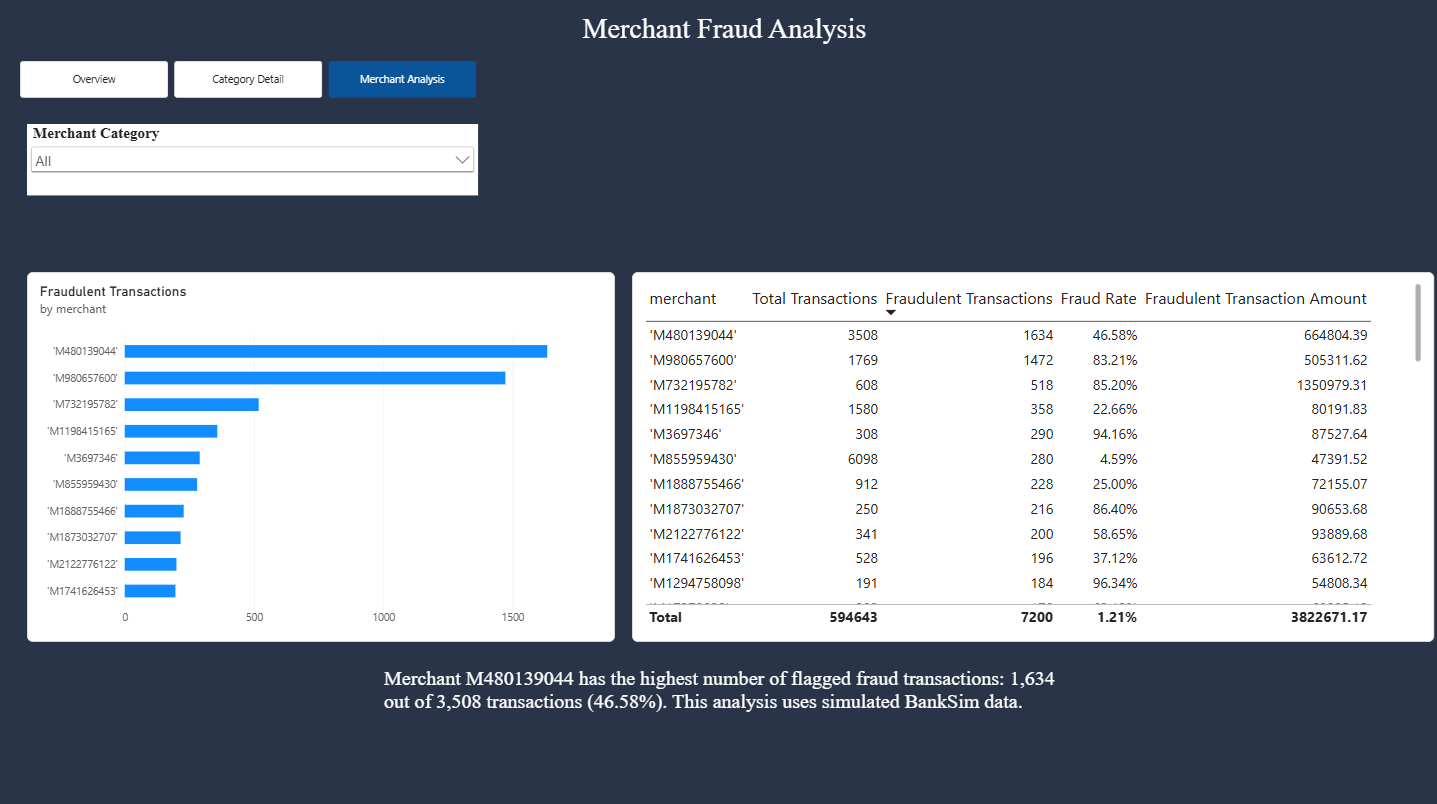

This screenshot's page, from the dashboard's own definition file:
{"tool":"powerbi","page":{"name":"Merchant Analysis","canvas":[1920,1080],"ordinal":2},"visuals":[{"type":"clusteredBarChart","fields":{"Category":["bs140513_032310.merchant"],"Y":["bs140513_032310.Fraudulent Transactions"]},"box":[37.9,364.7,782,491.7],"z":0},{"type":"tableEx","fields":{"Values":["bs140513_032310.merchant","bs140513_032310.Total Transactions","bs140513_032310.Fraudulent Transactions","bs140513_032310.Fraud Rate","bs140513_032310.Fraudulent Transaction Amount"]},"box":[843.3,364.7,1066.5,491.7],"z":1},{"type":"slicer","fields":{"Values":["bs140513_032310.category"]},"box":[37.9,167.8,599.6,94.8],"z":2},{"type":"pageNavigator","box":[29.2,83.2,608.4,49.6],"z":3},{"type":"textbox","box":[11.7,0,1908.3,83.2],"z":4},{"type":"textbox","box":[513.6,890,923.5,150.3],"z":5}]}

Visuals, with their boxes in screenshot pixels (x1, y1, x2, y2), scaled from the page's 1920x1080 canvas onto the 1437x804 screenshot:
clusteredBarChart - bs140513_032310.merchant x bs140513_032310.Fraudulent Transactions: <box>28,271,614,638</box>
tableEx - bs140513_032310.merchant x bs140513_032310.Total Transactions: <box>631,271,1429,638</box>
slicer - bs140513_032310.category: <box>28,125,477,195</box>
pageNavigator: <box>22,62,477,99</box>
textbox: <box>9,0,1436,62</box>
textbox: <box>384,663,1076,774</box>
